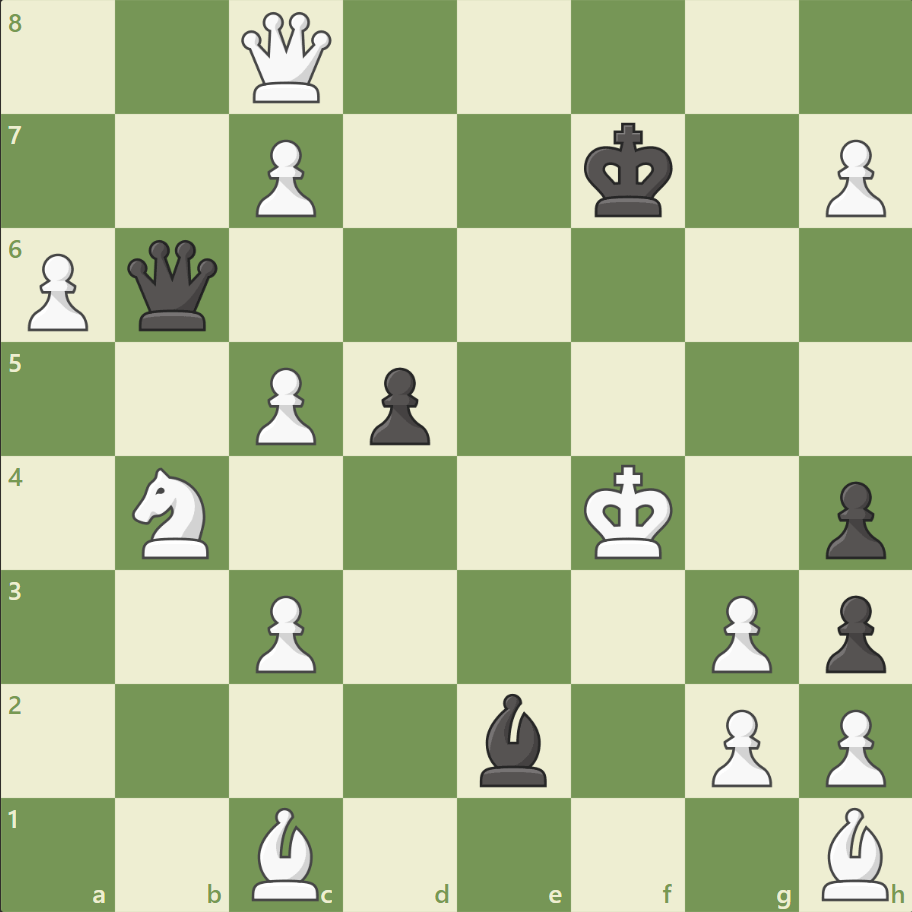B: (244, 801, 328, 904), (812, 801, 896, 904)
K: (579, 458, 679, 566)
N: (124, 461, 222, 564)
P: (247, 132, 322, 223), (20, 246, 95, 337), (247, 359, 322, 450), (247, 586, 322, 677), (701, 586, 776, 677), (701, 700, 776, 791), (815, 132, 889, 223), (815, 700, 889, 791)
Q: (237, 9, 336, 108)
b: (471, 687, 555, 790)
k: (579, 117, 679, 225)
p: (361, 359, 435, 450), (815, 473, 889, 564), (815, 586, 889, 677)
q: (124, 236, 223, 335)
